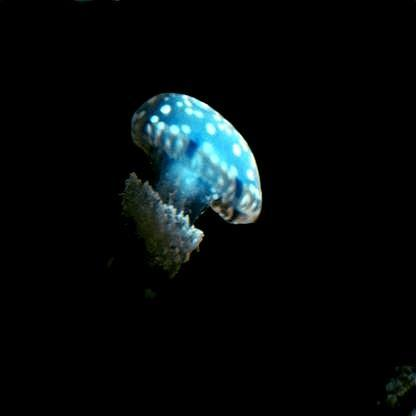LightHouse: (99, 93, 265, 363), (0, 246, 57, 405)
